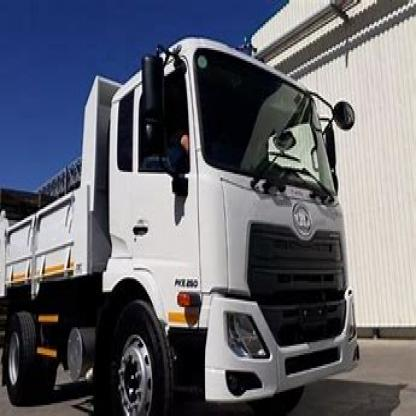dump_truck: (3, 37, 364, 414)
